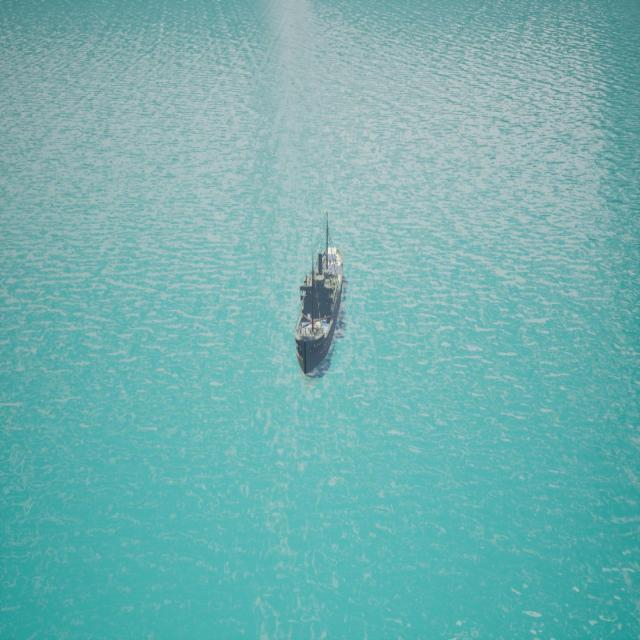fishing ship: (296, 219, 347, 379)
